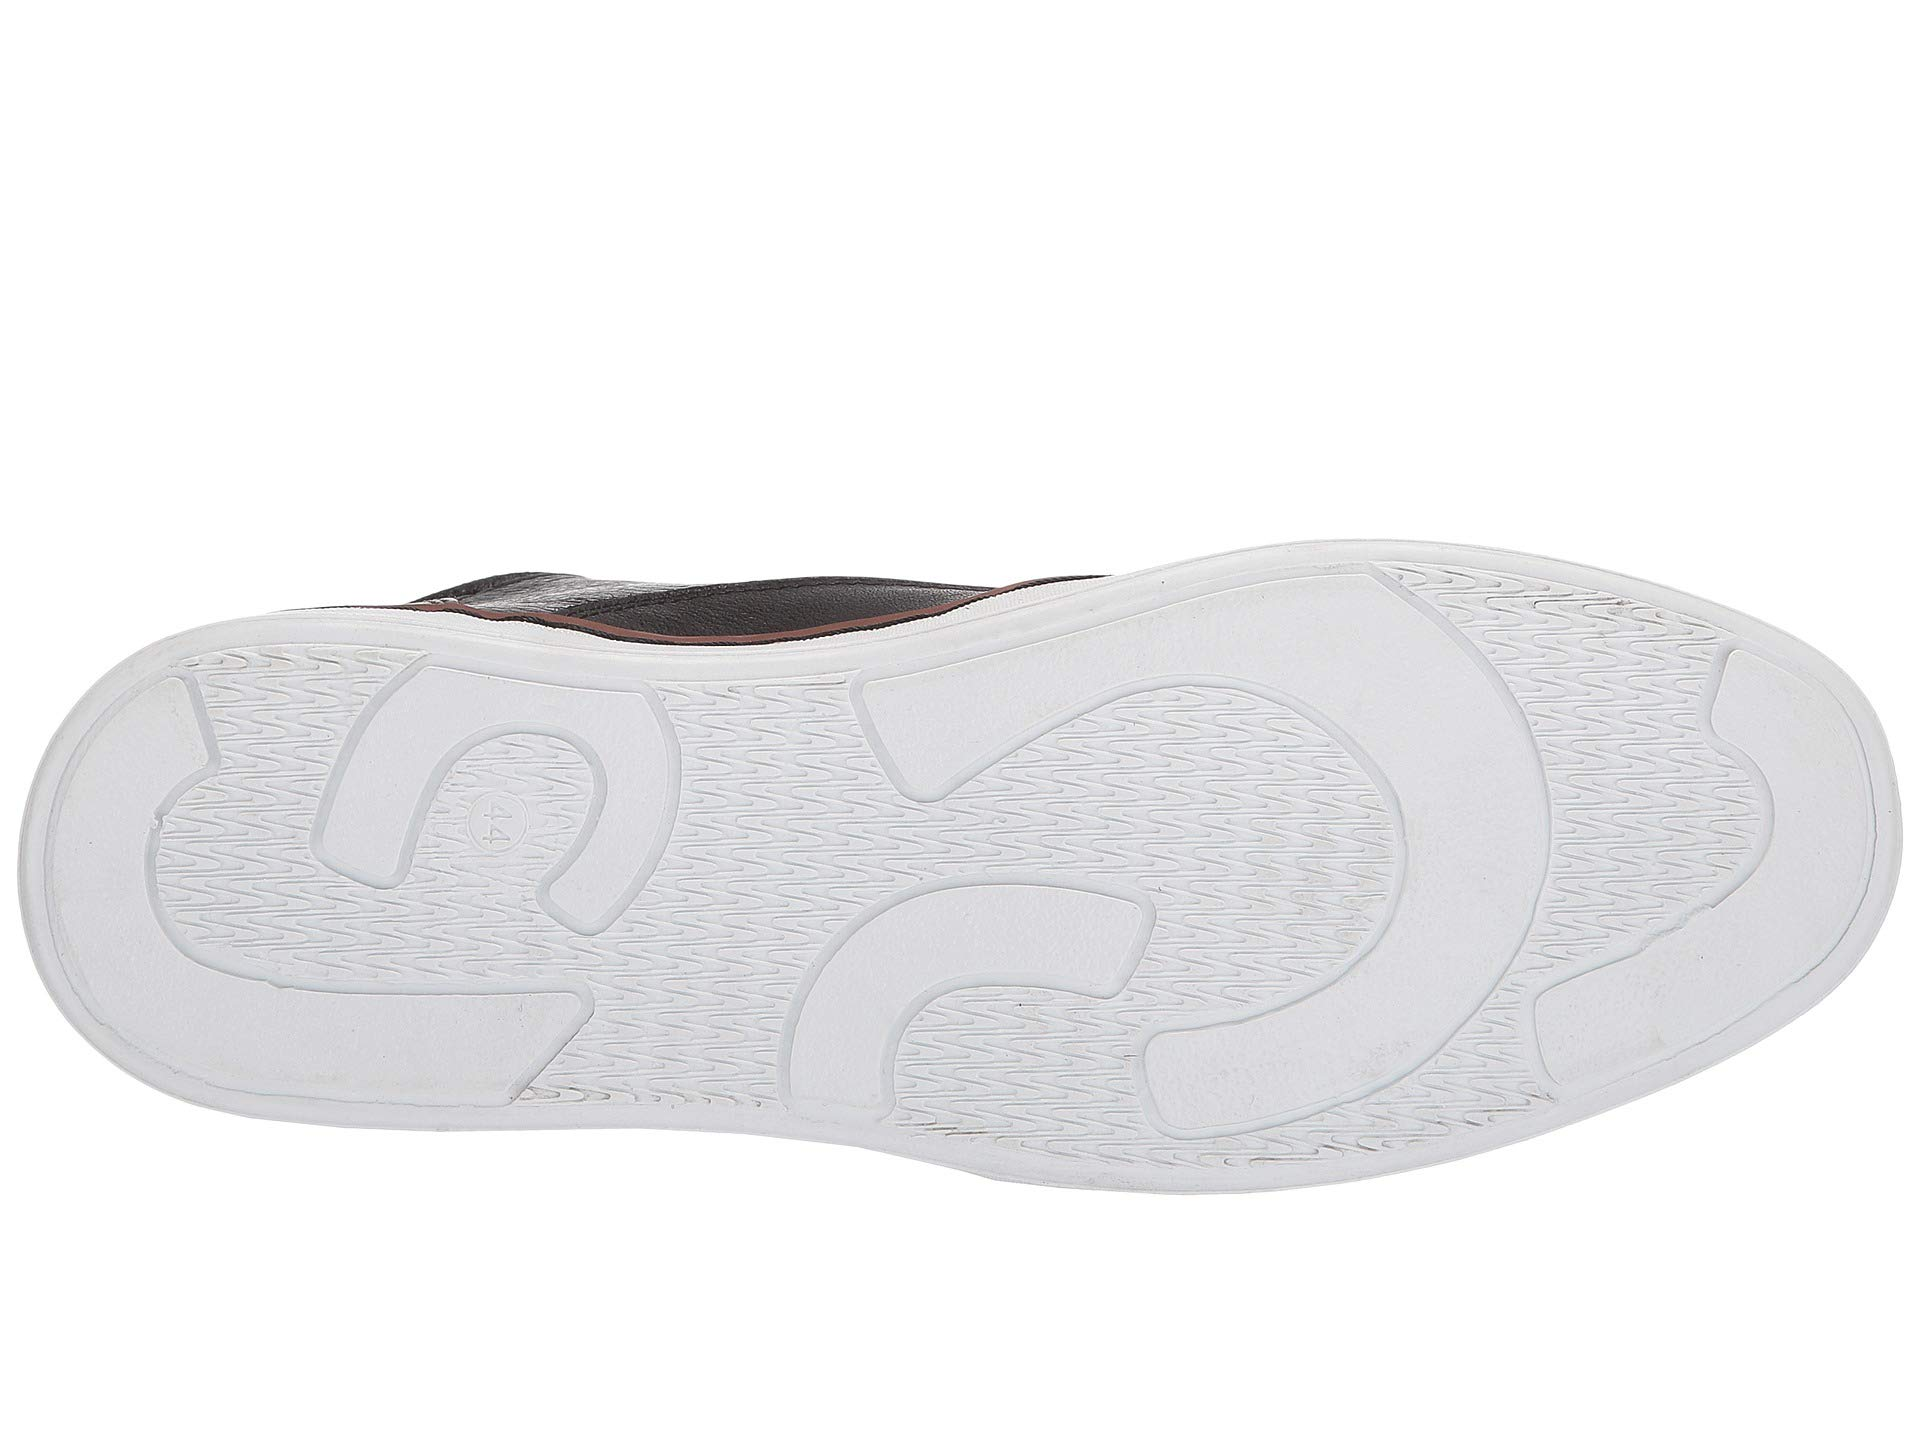chevron: (695, 715, 872, 905), (937, 1007, 1099, 1159)
